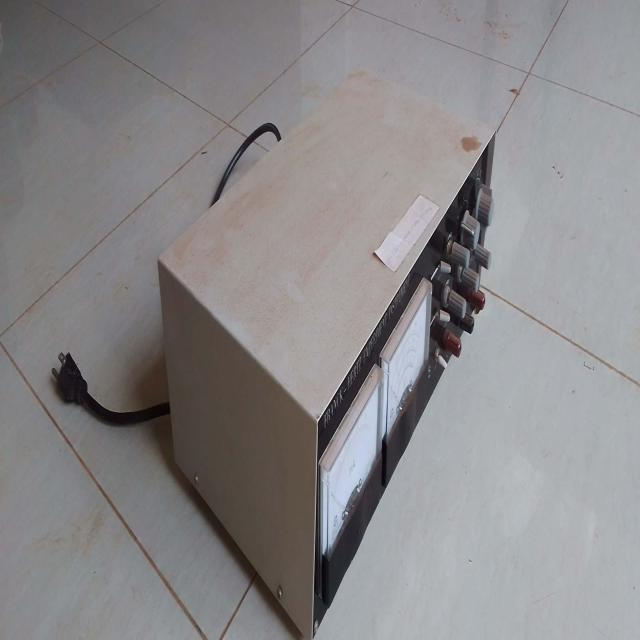Frank-Hertz Experiment Apparatus: (147, 44, 507, 574)
